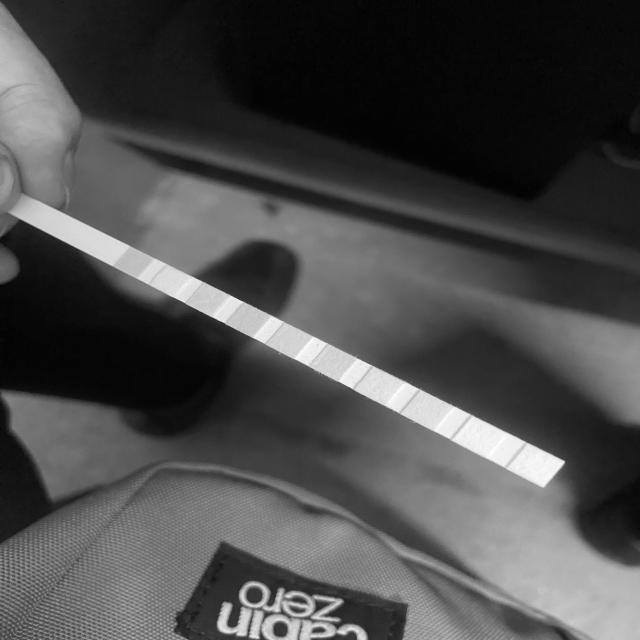Bilirubin: (158, 273, 185, 289)
Blood: (278, 331, 302, 351)
Glucose: (122, 255, 148, 268)
Ketone: (196, 290, 220, 309)
Leukocytes: (515, 458, 556, 472)
Nitrite: (467, 423, 488, 449)
Protein: (365, 376, 394, 395)
SpGravity: (236, 311, 262, 328)
Urobilinogen: (414, 398, 439, 421)
background: (0, 0, 640, 640)
pH: (320, 352, 346, 372)
strip: (10, 195, 567, 489)
